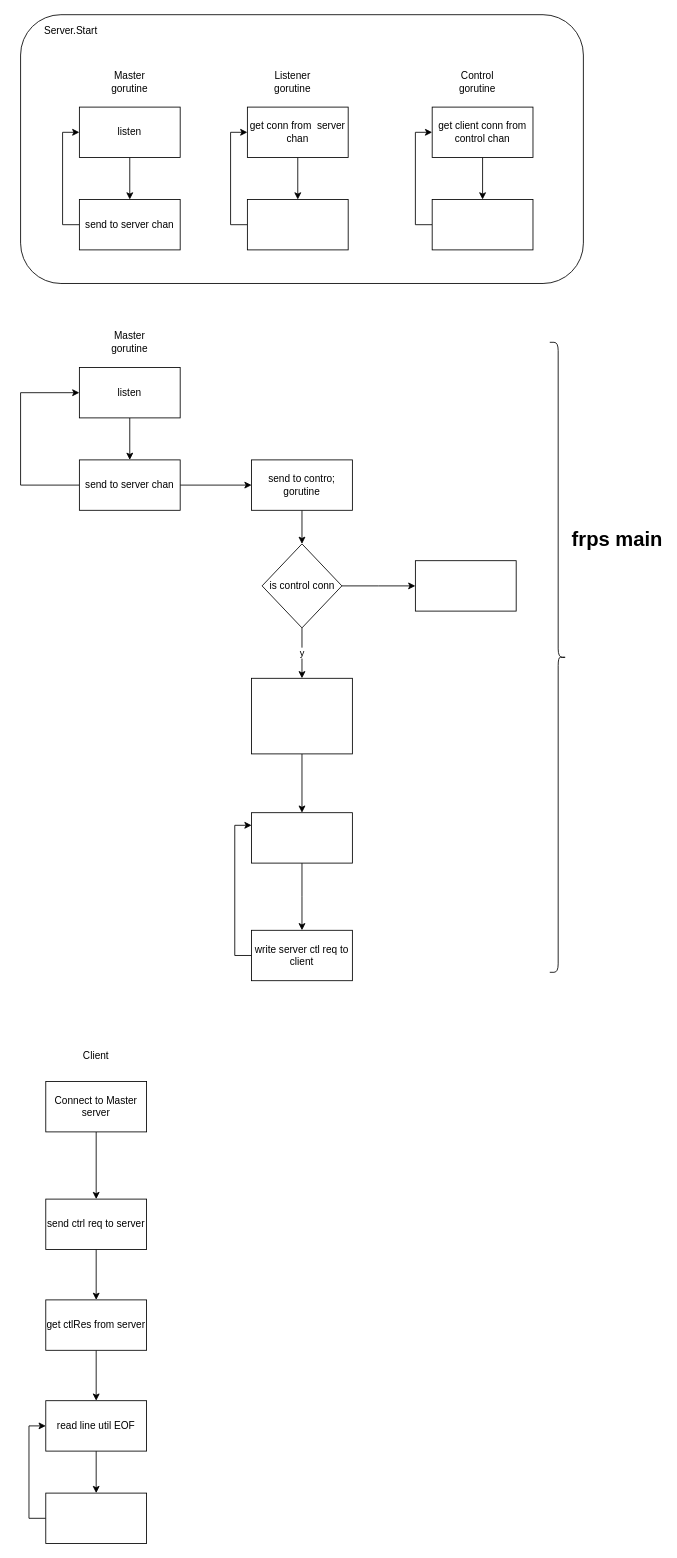
Some shapes in this 677 by 1558 pixel diagram are drawn without their labels. The shapes that lost their labels are listed below. From the top down, each one's box as (x1, y1, x2, y2) in pixels, then its label:
(247, 199, 348, 250): append to list/ send 1 to msgchan
(431, 199, 533, 250): join client chan and master chan
(415, 560, 516, 611): send to control chan
(251, 677, 352, 754): read line check passwrod start server send start response to client
(251, 812, 352, 863): wait client connect (by ctl chan)
(45, 1492, 147, 1544): StartTunnel( join local and server)
